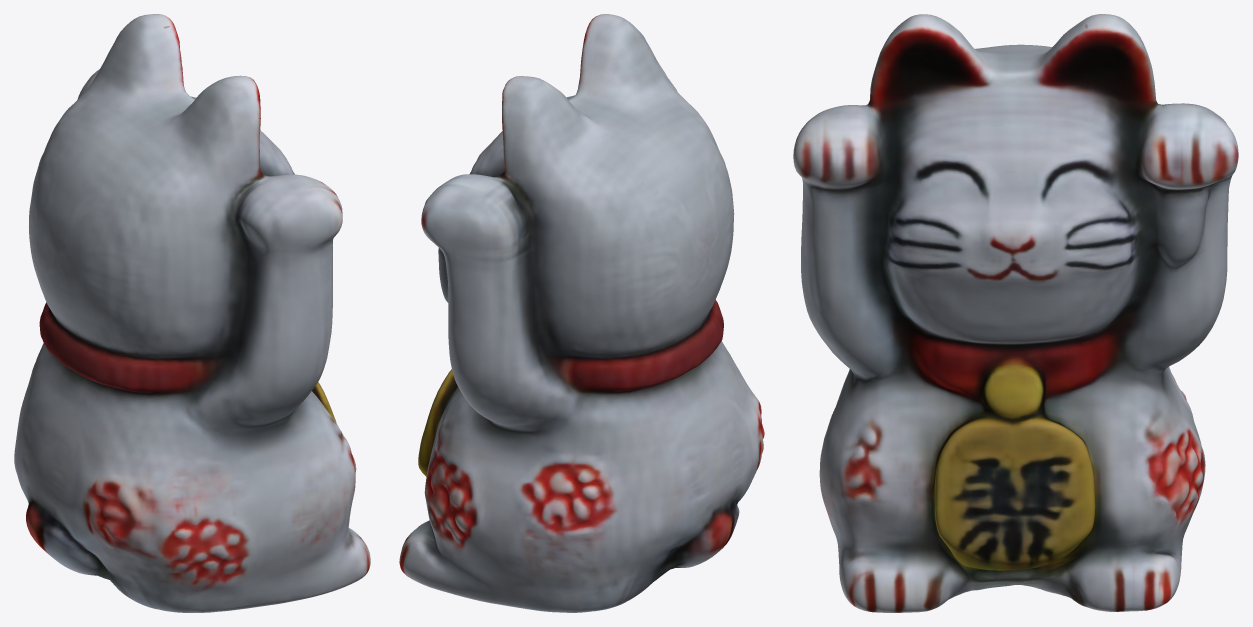
Rendered from cutecat01.glb.
3 views of the same model, side by side, from view 1: azimuth 30°, elevation 25°; view 2: azimuth 150°, elevation 25°; view 3: azimuth 270°, elevation 25° (orthographic). The views are drawn at different scales.
Visible parts, largest first — view 1: world; view 2: world; view 3: world.
Part boxes in pixels (x1,y1,x2,y2): world: [14, 14, 370, 612]; world: [399, 14, 764, 612]; world: [793, 14, 1238, 612].
Size of the model in its own units: 0.2949 by 0.5001 by 0.3682.
1 material, 1 textured.
